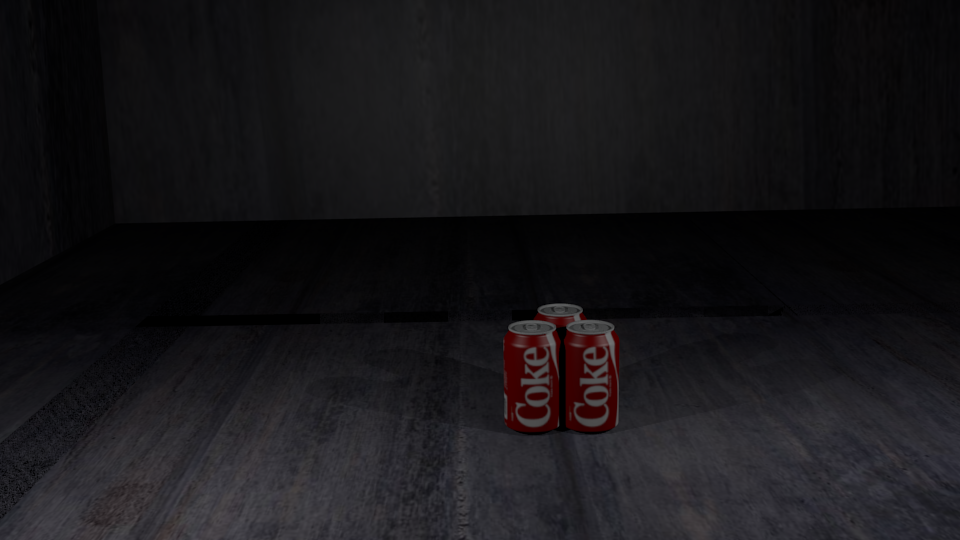cola_can: (561, 320, 618, 428), (504, 321, 560, 429), (533, 304, 586, 407)
